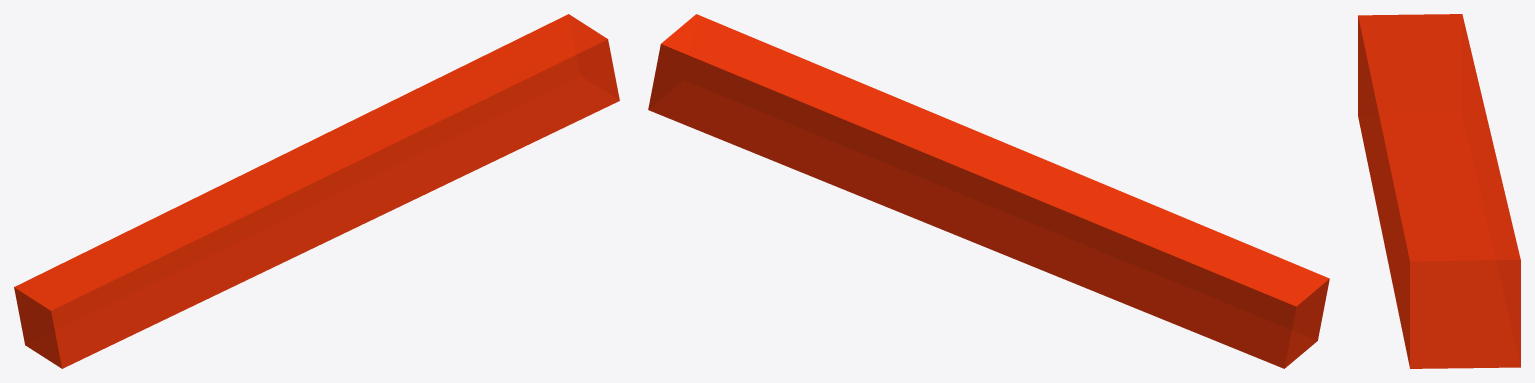
Rendered from Event_421364160_EErechit_35.fbx.
The picture shows the model from 3 angles, left to right: view 1: azimuth 30°, elevation 25°; view 2: azimuth 150°, elevation 25°; view 3: azimuth 270°, elevation 25°; orthographic projection. The views are drawn at different scales.
Visible parts, largest first — view 1: Model; view 2: Model; view 3: Model.
Part boxes in pixels (x1,y1,x2,y2): Model: (14, 14, 619, 368); Model: (648, 14, 1329, 368); Model: (1358, 14, 1520, 368).
Size of the model in its own units: 0.722 by 0.2116 by 0.1131.
